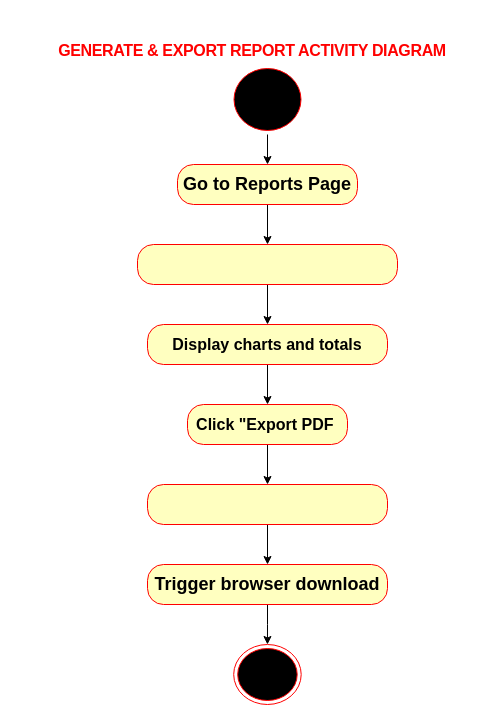
Image size: 504x722. Some labels were removed from this diagram. Each missing label, with the box of its shape:
Generate PDF from report data: (146, 484, 388, 524)
Load income, expense, balance: (136, 244, 398, 284)
